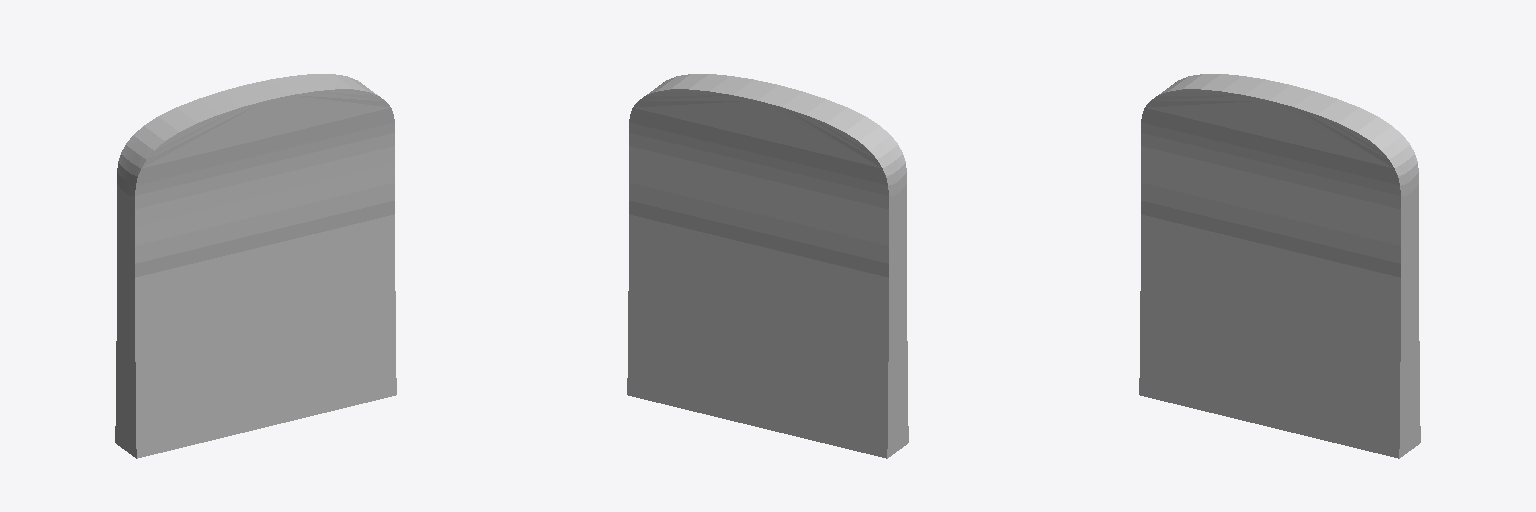
Rendered from door.obj.
The picture shows the model from 3 angles: view 1: azimuth 30°, elevation 25°; view 2: azimuth 150°, elevation 25°; view 3: azimuth 330°, elevation 25°; orthographic projection.
Parts seen in each view (by area): view 1: Cube3; view 2: Cube3; view 3: Cube3.
Part boxes in pixels (bbox=[...]): Cube3: bbox=[115, 74, 396, 458]; Cube3: bbox=[627, 74, 908, 458]; Cube3: bbox=[1139, 74, 1420, 458].
Size of the model in its own units: 1 by 1.2 by 0.1419.